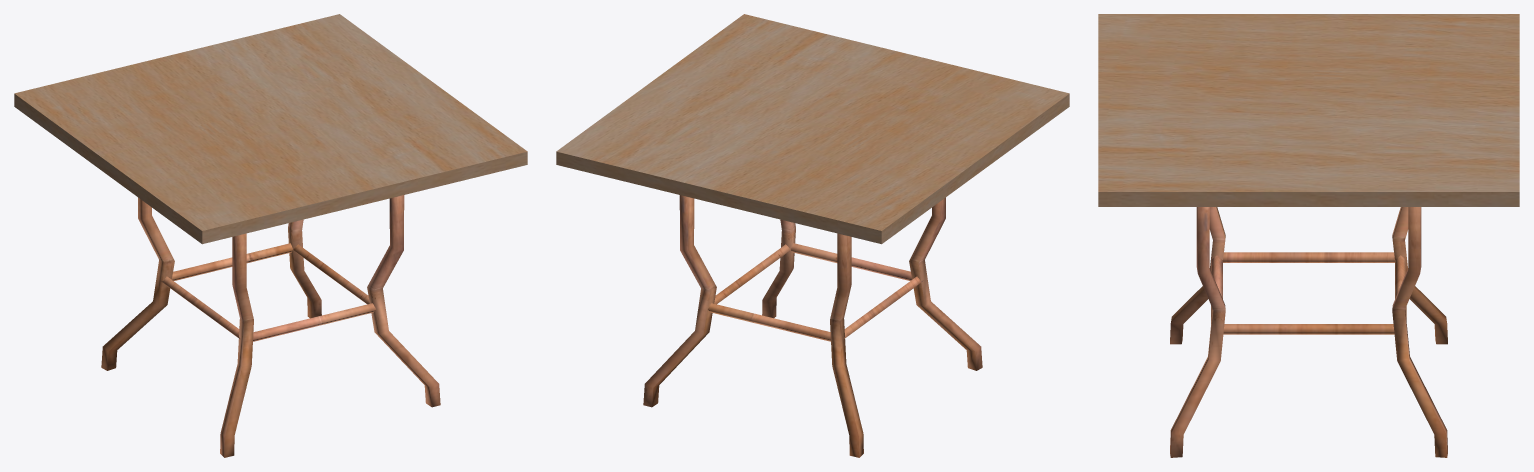
The model's file is Table_06.glb.
3 views of the same model, side by side, from view 1: azimuth 30°, elevation 25°; view 2: azimuth 150°, elevation 25°; view 3: azimuth 270°, elevation 25° (orthographic). The views are drawn at different scales.
Visible parts, largest first — view 1: Table_06; view 2: Table_06; view 3: Table_06.
Part boxes in pixels (left/top/right/bottom): Table_06: left=14, top=14, right=527, bottom=457; Table_06: left=556, top=14, right=1069, bottom=457; Table_06: left=1098, top=14, right=1519, bottom=457.
Bounding box in the file's own units: 1.09 × 0.8421 × 1.09.
2 materials, 2 textured.
